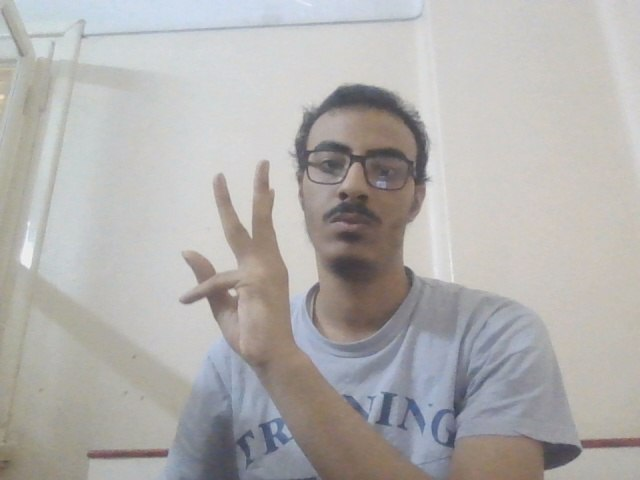Water: (164, 159, 316, 362)
